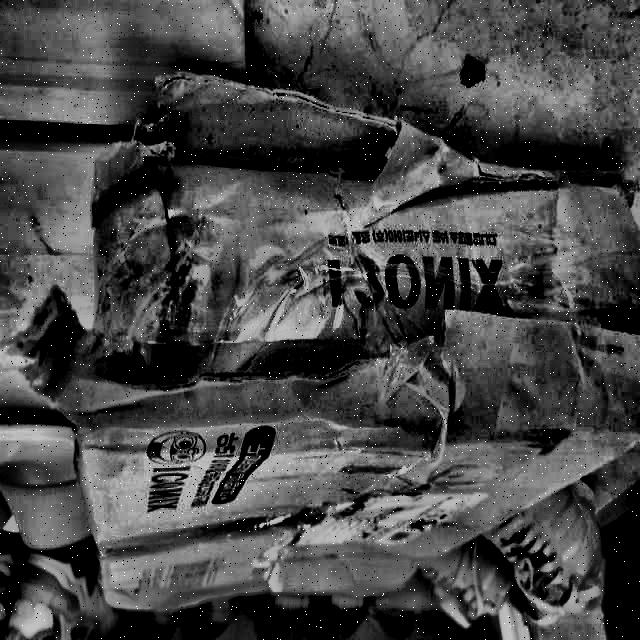box: (48, 115, 640, 631)
hole: (92, 333, 194, 403)
